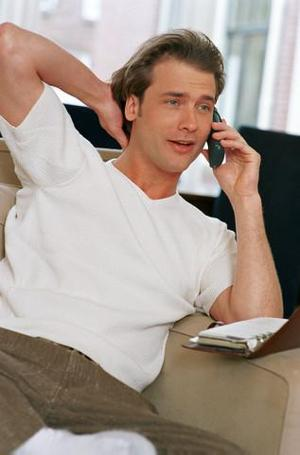person: (5, 18, 290, 455)
